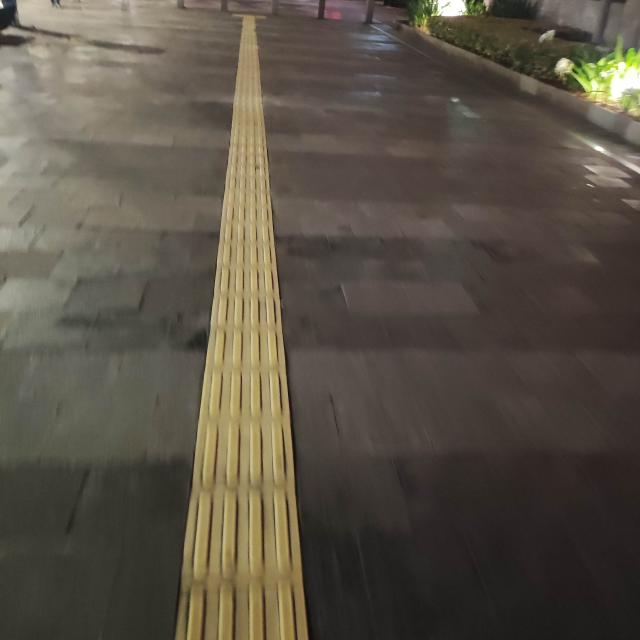lurus: (166, 65, 314, 640)
